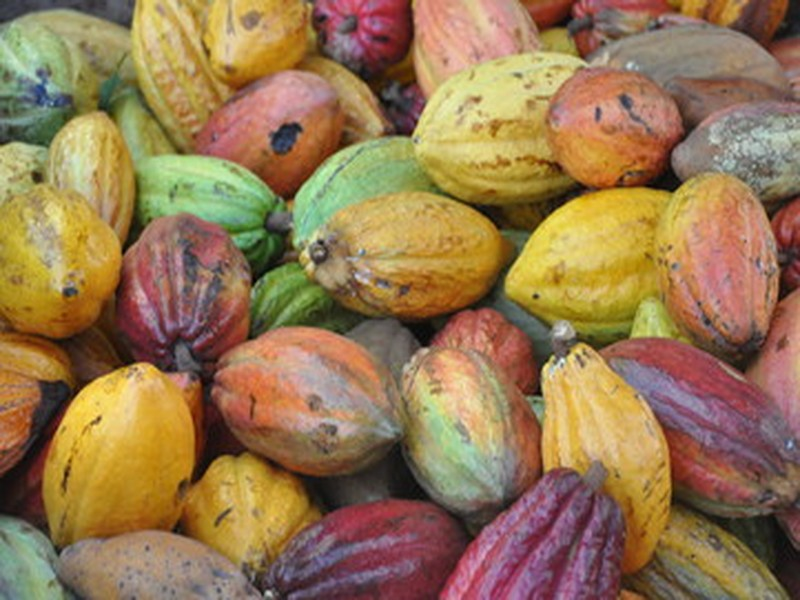Cacaopod: (301, 189, 512, 321)
